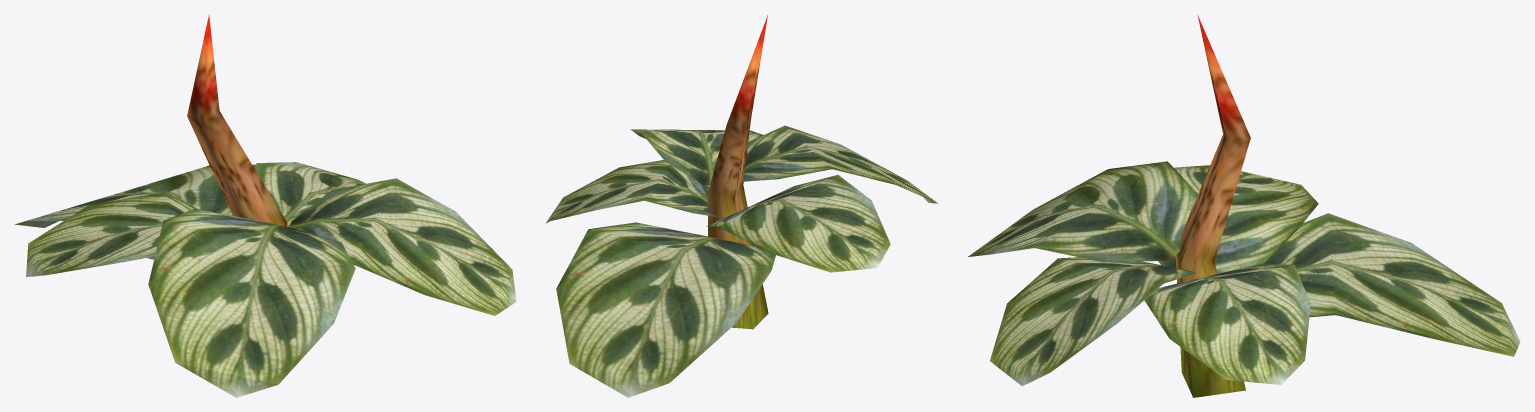
Rendered from mprw_plant_03.FBX.
3 views of the same model, side by side, from view 1: azimuth 30°, elevation 25°; view 2: azimuth 150°, elevation 25°; view 3: azimuth 270°, elevation 25° (orthographic). The views are drawn at different scales.
Visible parts, largest first — view 1: mprw_plant_03; view 2: mprw_plant_03; view 3: mprw_plant_03.
Part boxes in pixels (bbox=[...]): mprw_plant_03: bbox=[14, 14, 516, 397]; mprw_plant_03: bbox=[546, 15, 937, 397]; mprw_plant_03: bbox=[968, 15, 1520, 397].
Size of the model in its own units: 135 by 123 by 172.
Materials: 1 (1 with a texture image).
